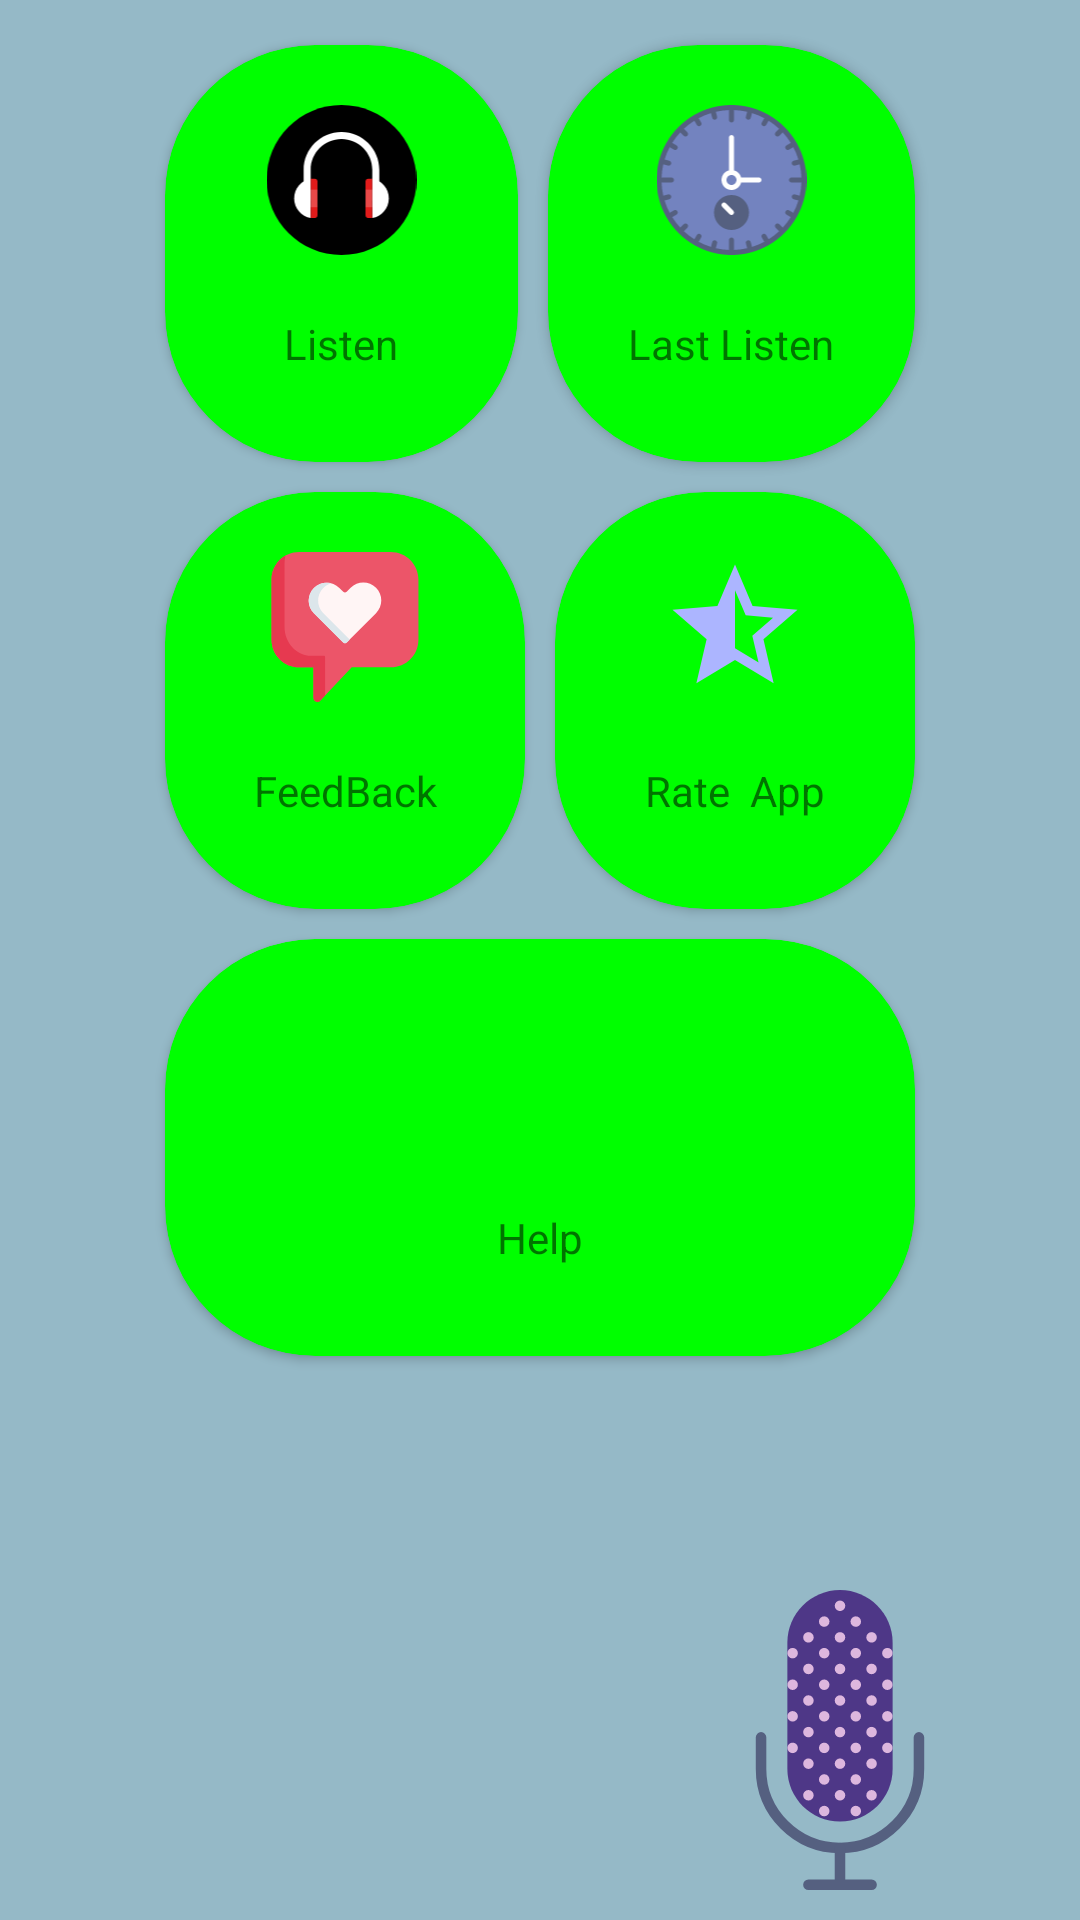

Icons on this 1080*1920 Android screen, each with its box as (x1, y1, x2, y2):
headphones: (267, 105, 417, 255)
microphone: (756, 1590, 924, 1890)
star half: (673, 565, 797, 683)
stopwatch: (657, 105, 807, 255)
